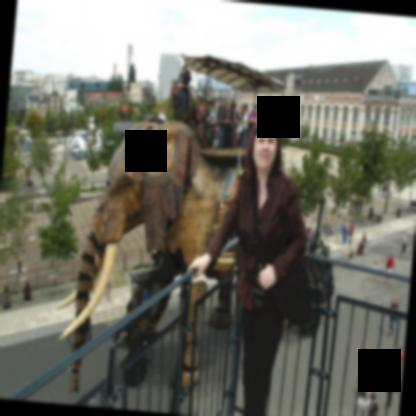handbag: (252, 185, 314, 326), (383, 378, 390, 389), (393, 356, 396, 366)
